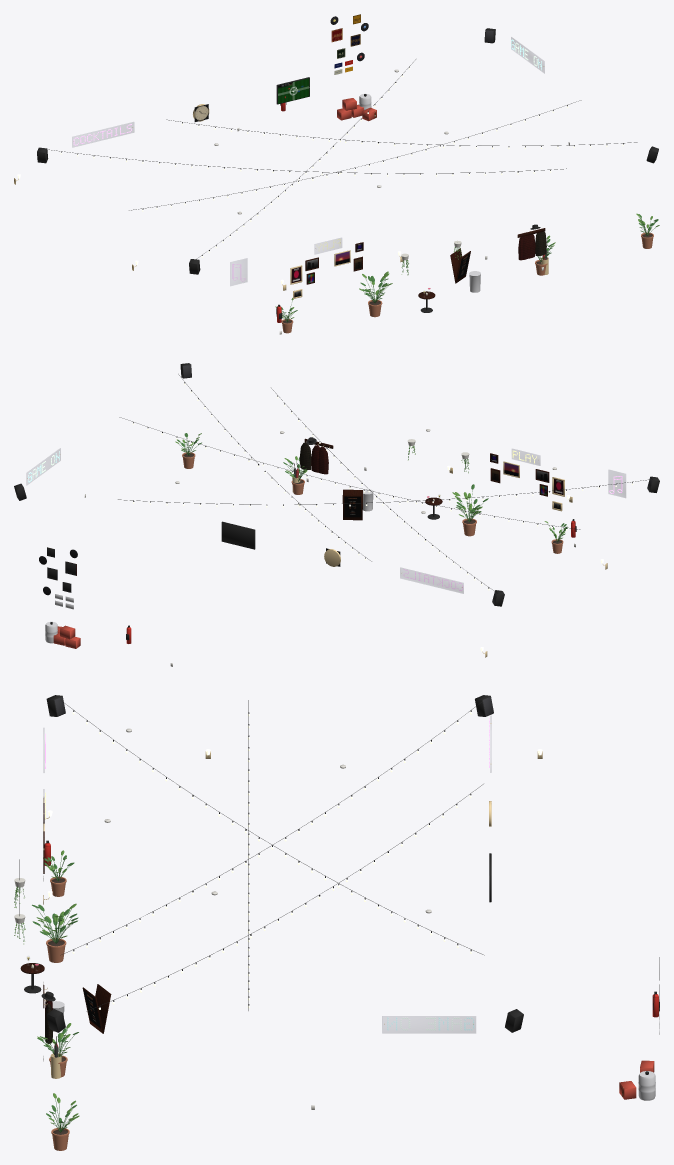
Rendered from decor_walls.glb.
3 views of the same model, one above another, from view 1: azimuth 30°, elevation 25°; view 2: azimuth 150°, elevation 25°; view 3: azimuth 270°, elevation 25° (orthographic). The views are drawn at different scales.
Parts seen in each view (by area): view 1: Neon backer, Black plastic, Cord, Leaves, Photos, TV screen, Terracotta, Crate plastic, Edison bulb, Prop dark wood, Brass; view 2: Black plastic, Neon backer, Cord, Leaves, Brass, Photos, Stainless, Terracotta, Edison bulb, Prop dark wood, Crate plastic, Coat 2; view 3: Black plastic, Neon backer, Leaves, Cord, Terracotta, Edison bulb, Leaves light, Stainless.
Boxes of the visible parts, bbox=[...] form: Neon backer: bbox=[72, 37, 544, 285]; Black plastic: bbox=[37, 28, 658, 319]; Cord: bbox=[48, 59, 637, 258]; Leaves: bbox=[281, 214, 658, 322]; Photos: bbox=[291, 243, 362, 297]; TV screen: bbox=[278, 78, 309, 103]; Terracotta: bbox=[281, 232, 653, 333]; Crate plastic: bbox=[337, 98, 376, 121]; Edison bulb: bbox=[60, 67, 623, 257]; Prop dark wood: bbox=[305, 228, 545, 299]; Brass: bbox=[14, 43, 548, 298]; Black plastic: bbox=[14, 363, 659, 640]; Neon backer: bbox=[26, 448, 625, 593]; Cord: bbox=[118, 374, 648, 590]; Leaves: bbox=[177, 433, 567, 542]; Brass: bbox=[27, 441, 607, 657]; Photos: bbox=[491, 454, 563, 509]; Stainless: bbox=[45, 489, 373, 643]; Terracotta: bbox=[182, 452, 563, 553]; Edison bulb: bbox=[133, 383, 633, 590]; Prop dark wood: bbox=[304, 438, 549, 505]; Crate plastic: bbox=[53, 625, 80, 648]; Coat 2: bbox=[311, 445, 328, 474]; Black plastic: bbox=[24, 695, 659, 1074]; Neon backer: bbox=[43, 716, 491, 1033]; Leaves: bbox=[14, 855, 78, 1132]; Cord: bbox=[19, 700, 484, 1011]; Terracotta: bbox=[46, 876, 69, 1150]; Edison bulb: bbox=[72, 712, 472, 1009]; Leaves light: bbox=[14, 850, 79, 1125]; Stainless: bbox=[52, 1001, 659, 1100].
Size of the model in its own units: 18 by 4 by 15.09.
61 materials, 13 textured.
